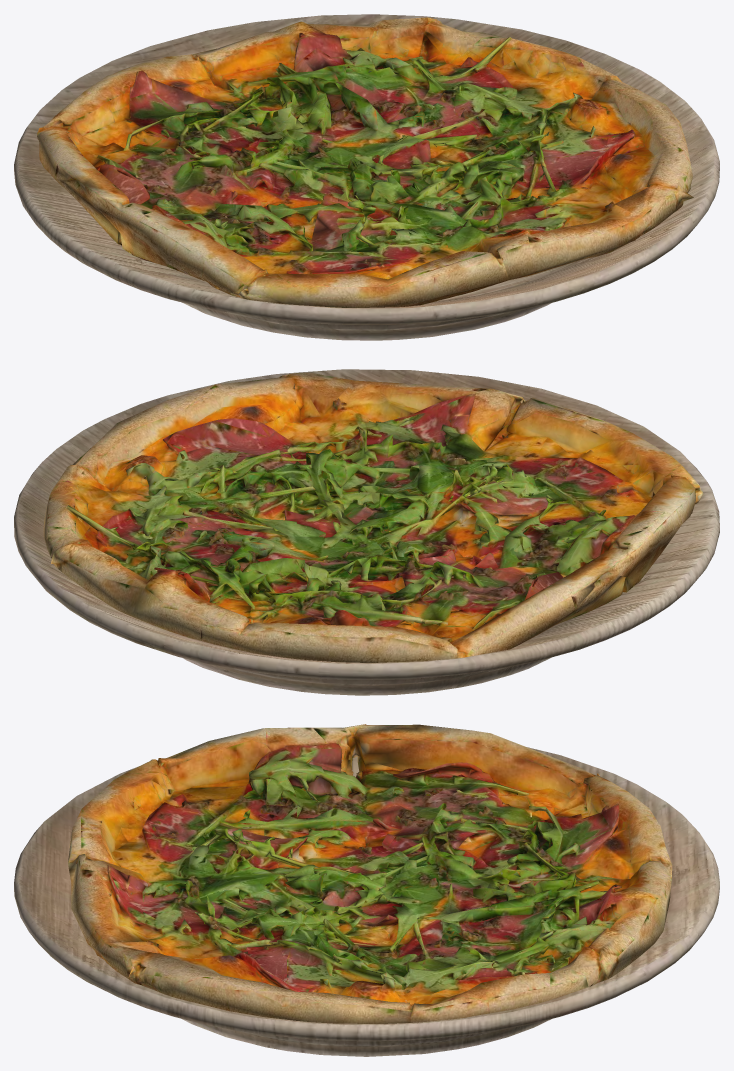
File: pizza-ar.glb
3 renders of one model, top to bottom at view 1: azimuth 30°, elevation 25°; view 2: azimuth 150°, elevation 25°; view 3: azimuth 270°, elevation 25°, orthographic.
Visible parts, largest first — view 1: pizza, Tarelka001; view 2: pizza, Tarelka001; view 3: pizza, Tarelka001.
Boxes of the visible parts, x1,y1,x2,y2 form: pizza: (37,17,693,307); Tarelka001: (14,14,719,340); pizza: (43,373,703,662); Tarelka001: (14,369,719,695); pizza: (68,724,672,1023); Tarelka001: (14,747,719,1056).
Bounding box in the file's own units: 0.3197 × 0.054 × 0.3198.
Materials: 2 (2 with a texture image).
